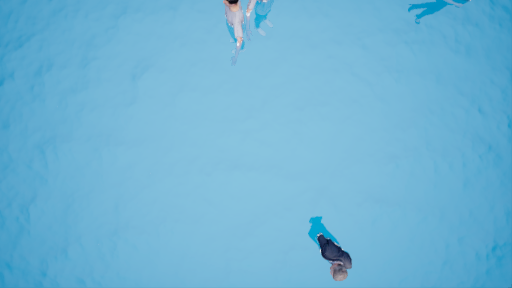person: (301, 209, 361, 285), (213, 1, 250, 61), (249, 1, 292, 46), (406, 1, 471, 21)
